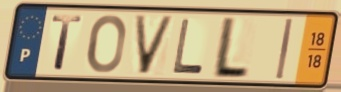I: (274, 17, 296, 82)
L: (208, 15, 252, 81), (171, 17, 206, 76)
O: (86, 13, 128, 76)
T: (50, 13, 85, 72)
V: (132, 13, 177, 77)
